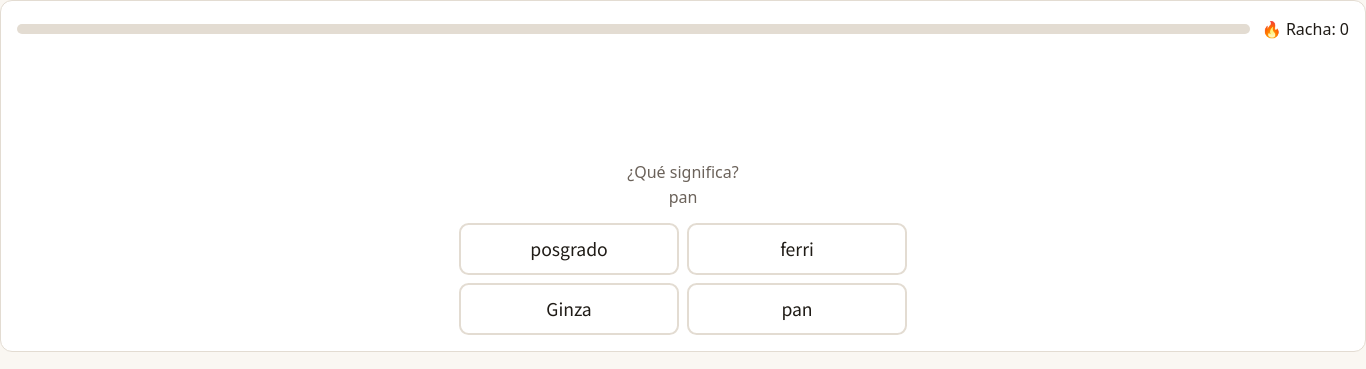
Scenario: read-words with loanwords › a wrong answer does not reveal it early; it appears when the round is over
What coordinates should you click on to do the following:
click the button "posgrado"
I would click on:
 (569, 249)
Its box is x1=459 y1=223 x2=679 y2=275.
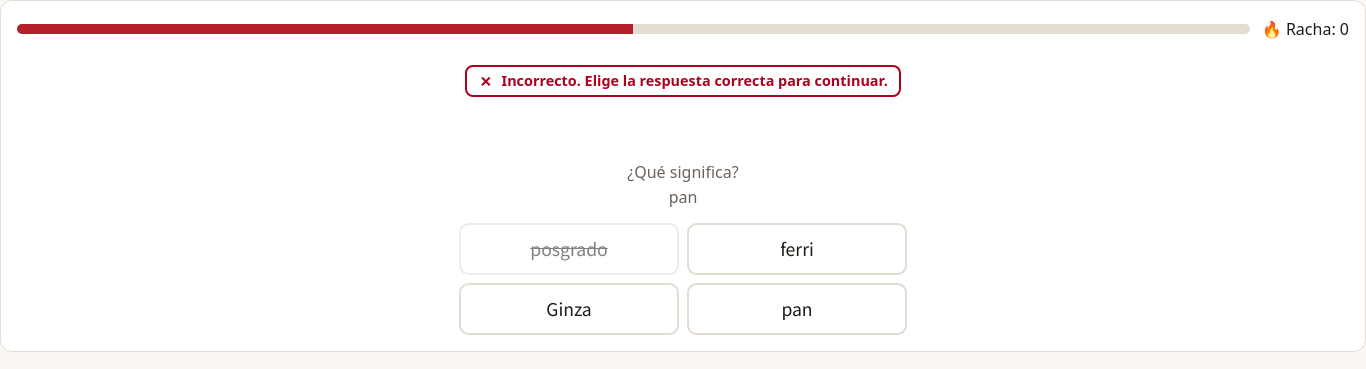
What coordinates should you click on to do the following:
click the button "pan"
I would click on:
 (797, 309)
Its box is x1=687 y1=283 x2=907 y2=335.
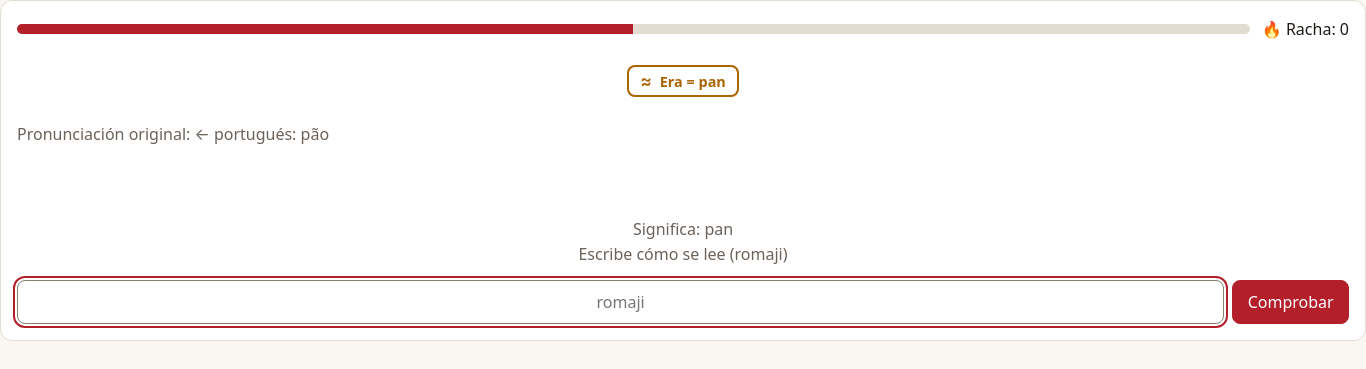
Check: the element with test id "origin" shows "portugués: pão", box x1=214 y1=123 x2=329 y2=145
